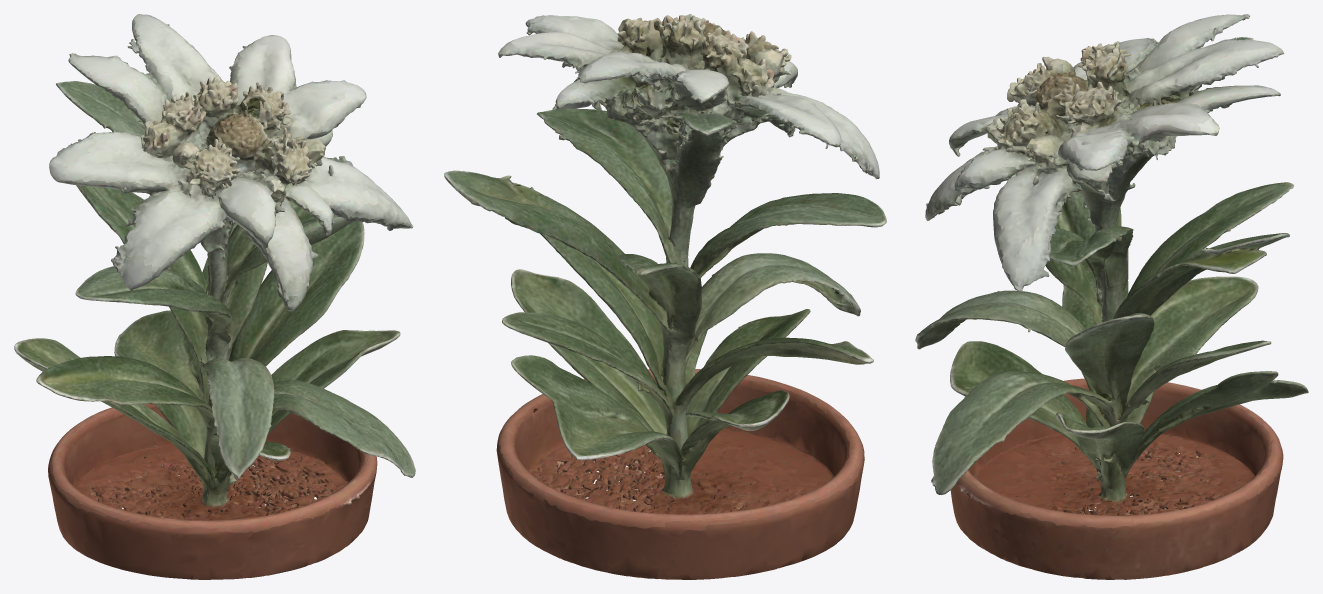
Rendered from edelweiss-cluster-v21.glb.
The picture shows the model from 3 angles, left to right: view 1: azimuth 30°, elevation 25°; view 2: azimuth 150°, elevation 25°; view 3: azimuth 270°, elevation 25°; orthographic projection. The views are drawn at different scales.
Visible parts, largest first — view 1: world; view 2: world; view 3: world.
Part boxes in pixels (x1=…): world: x1=14, y1=14, x2=415, y2=579; world: x1=444, y1=14, x2=886, y2=579; world: x1=915, y1=14, x2=1308, y2=579.
Bounding box in the file's own units: 0.2576 × 0.3199 × 0.2446.
Materials: 1 (1 with a texture image).
